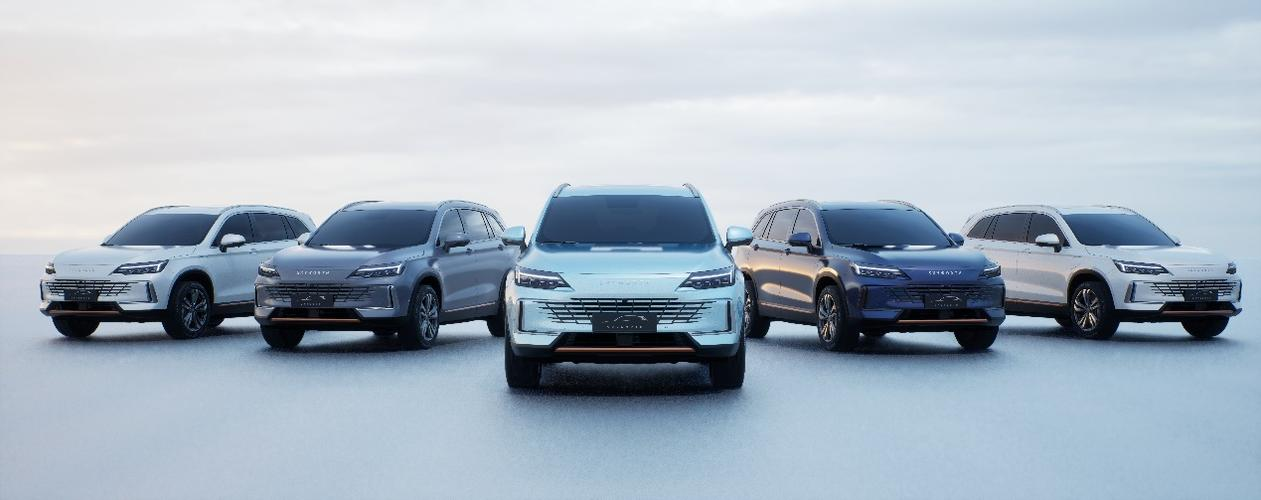汽车: (505, 179, 748, 411), (736, 182, 1006, 375), (34, 191, 316, 358), (264, 187, 507, 360), (967, 207, 1247, 348)
